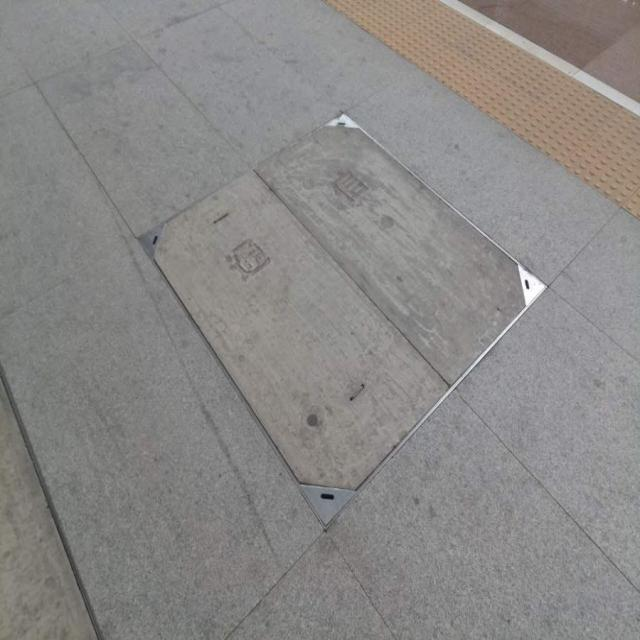manhole: (139, 120, 544, 527)
